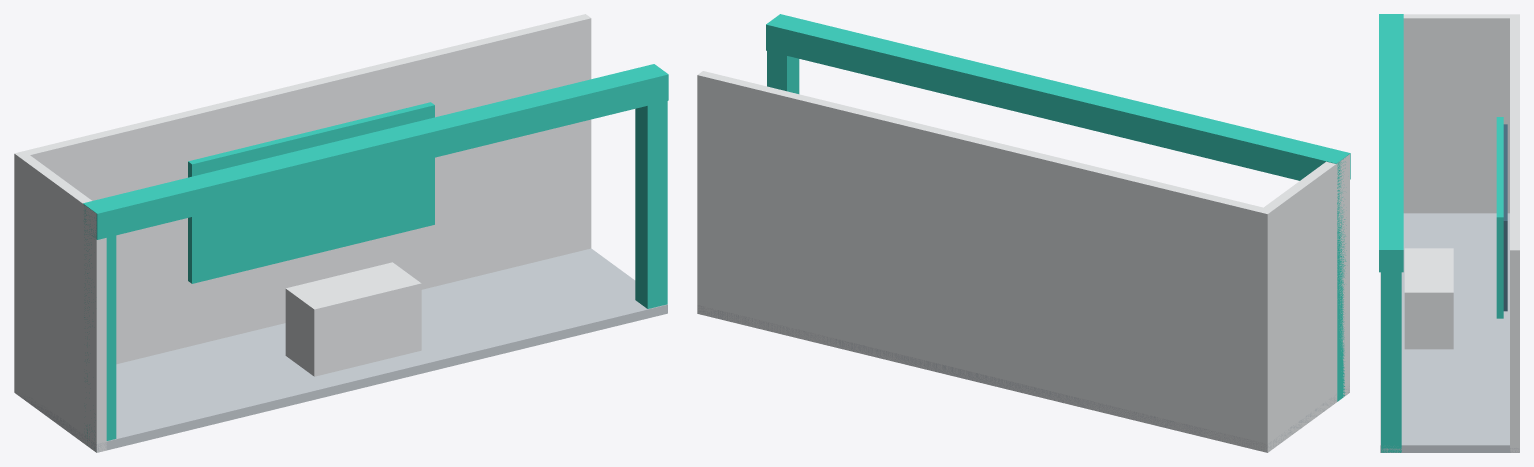
3 views of the same model, side by side, from view 1: azimuth 30°, elevation 25°; view 2: azimuth 150°, elevation 25°; view 3: azimuth 270°, elevation 25° (orthographic). The views are drawn at different scales.
Visible parts, largest first — view 1: Exhibition Booth Concept; view 2: Exhibition Booth Concept; view 3: Exhibition Booth Concept.
Part boxes in pixels (box(x1,y1,x2,y2)): Exhibition Booth Concept: box(14, 14, 668, 452); Exhibition Booth Concept: box(697, 14, 1350, 452); Exhibition Booth Concept: box(1379, 14, 1519, 452).
Bounding box in the file's own units: 8 × 3.2 × 2.01.
